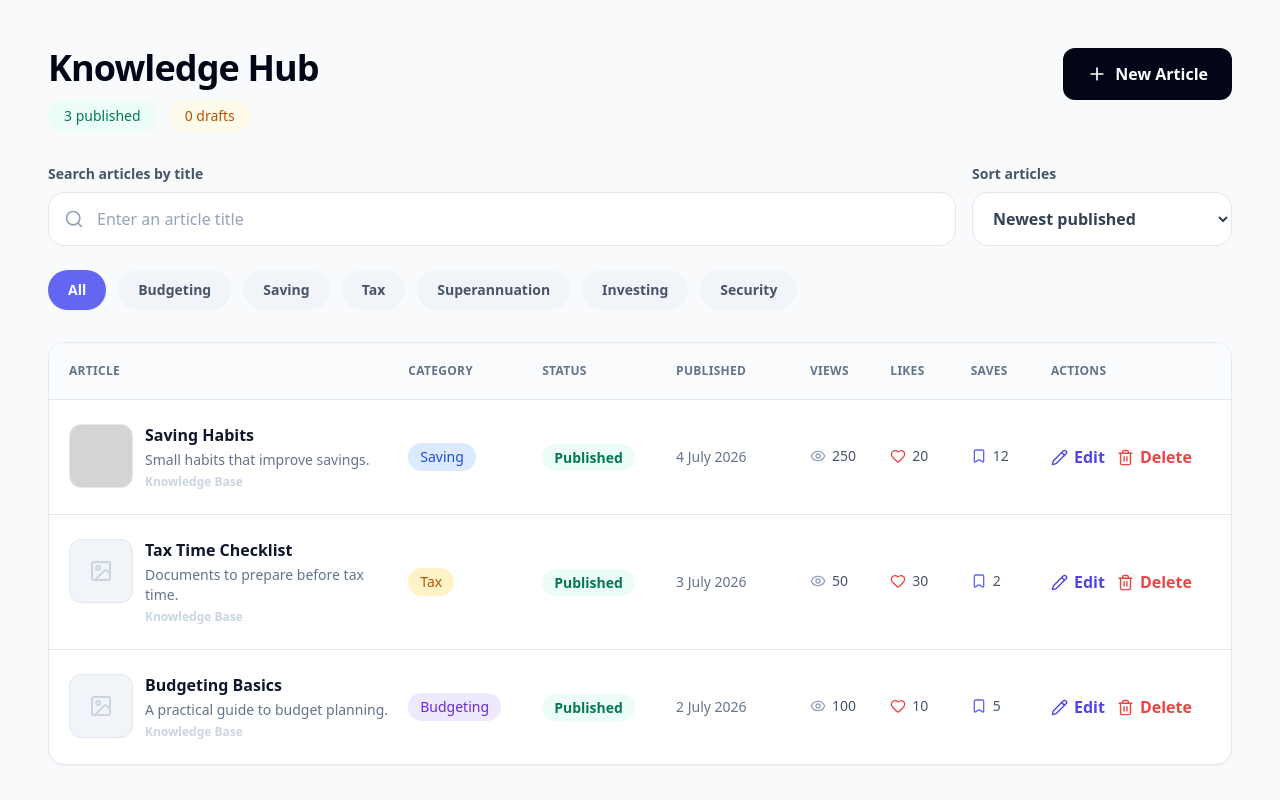
it: filters articles by title search and category
The image size is (1280, 800).
Expected: the heading "Budgeting Basics" is shown, [145,674,282,696]
Type "saving" into the search field labelled "Search articles by title" at (502, 219), box [48,192,956,246]
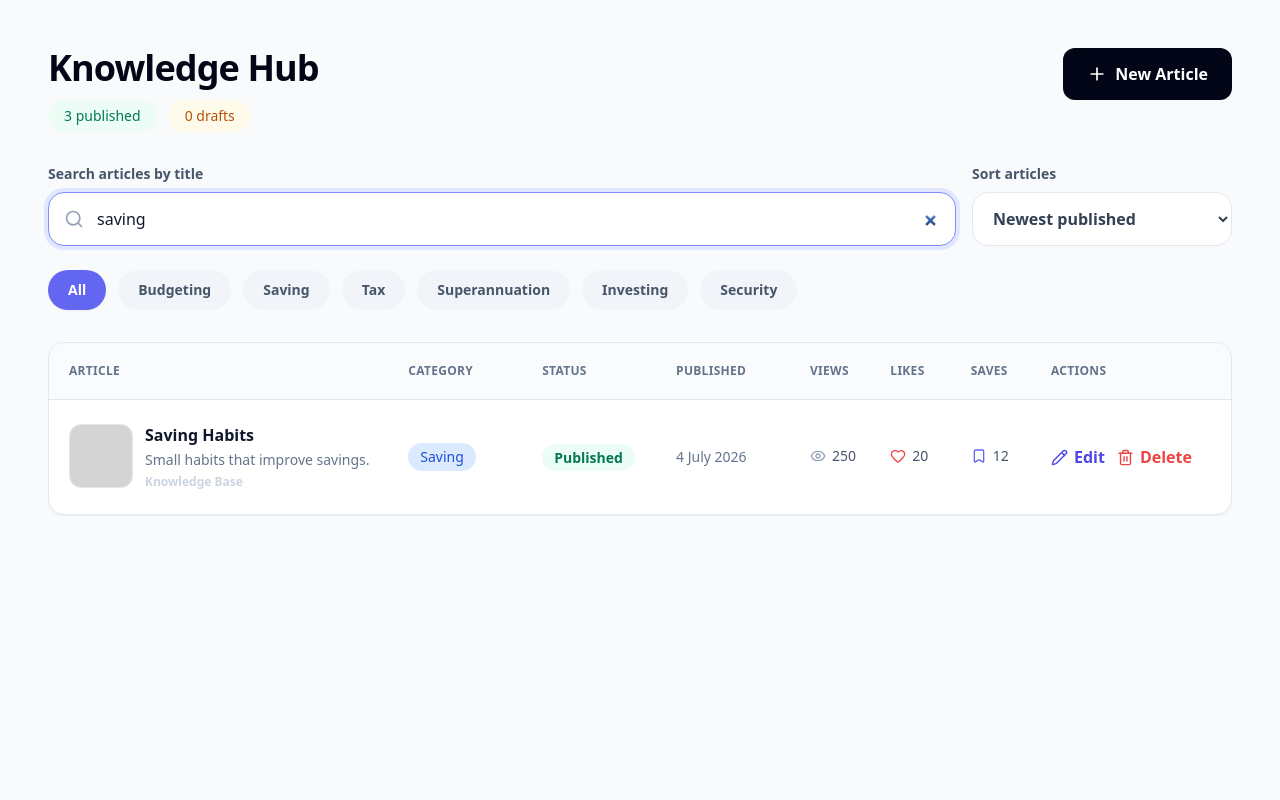
Expected: the heading "Saving Habits" is shown, [145,424,254,446]
Expected: the heading "Budgeting Basics" is gone
Clear the search field labelled "Search articles by title" at (502, 219), box [48,192,956,246]
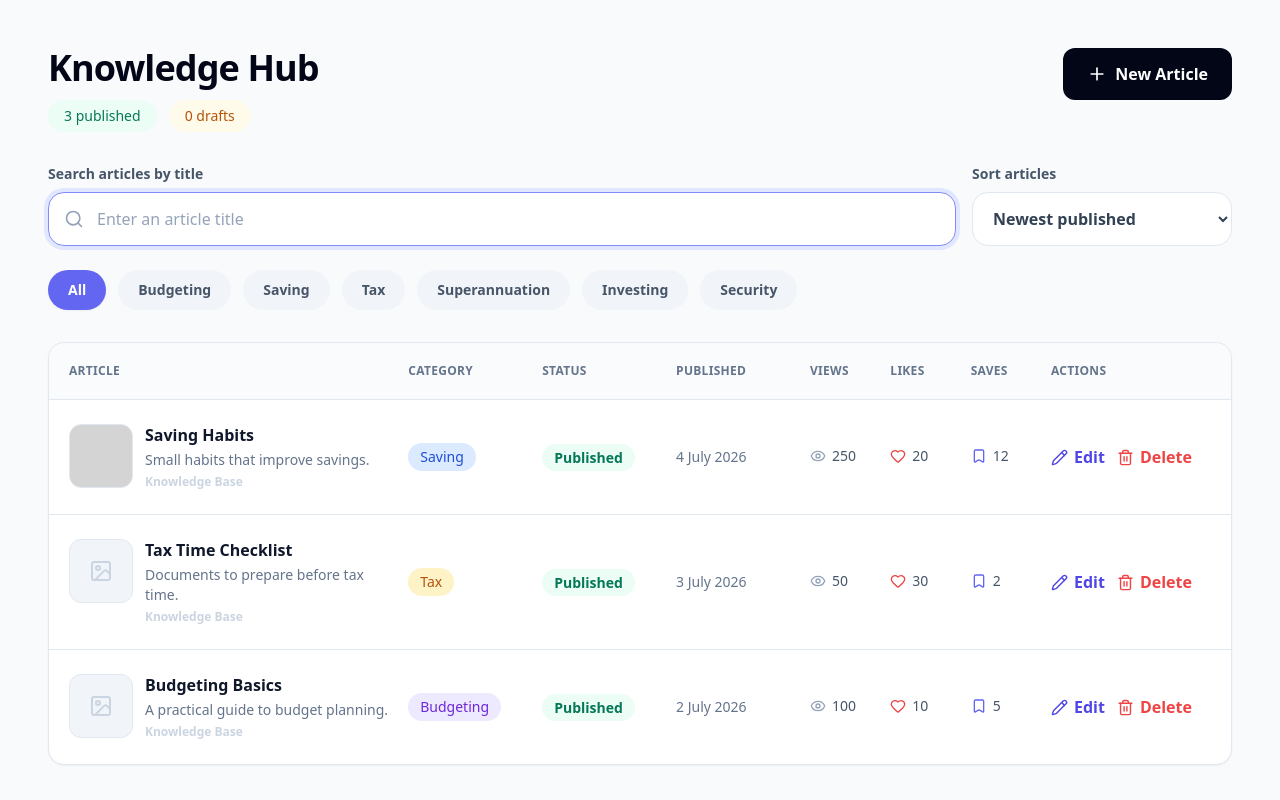
Click the button "Tax" at (373, 290), box [342,270,405,310]
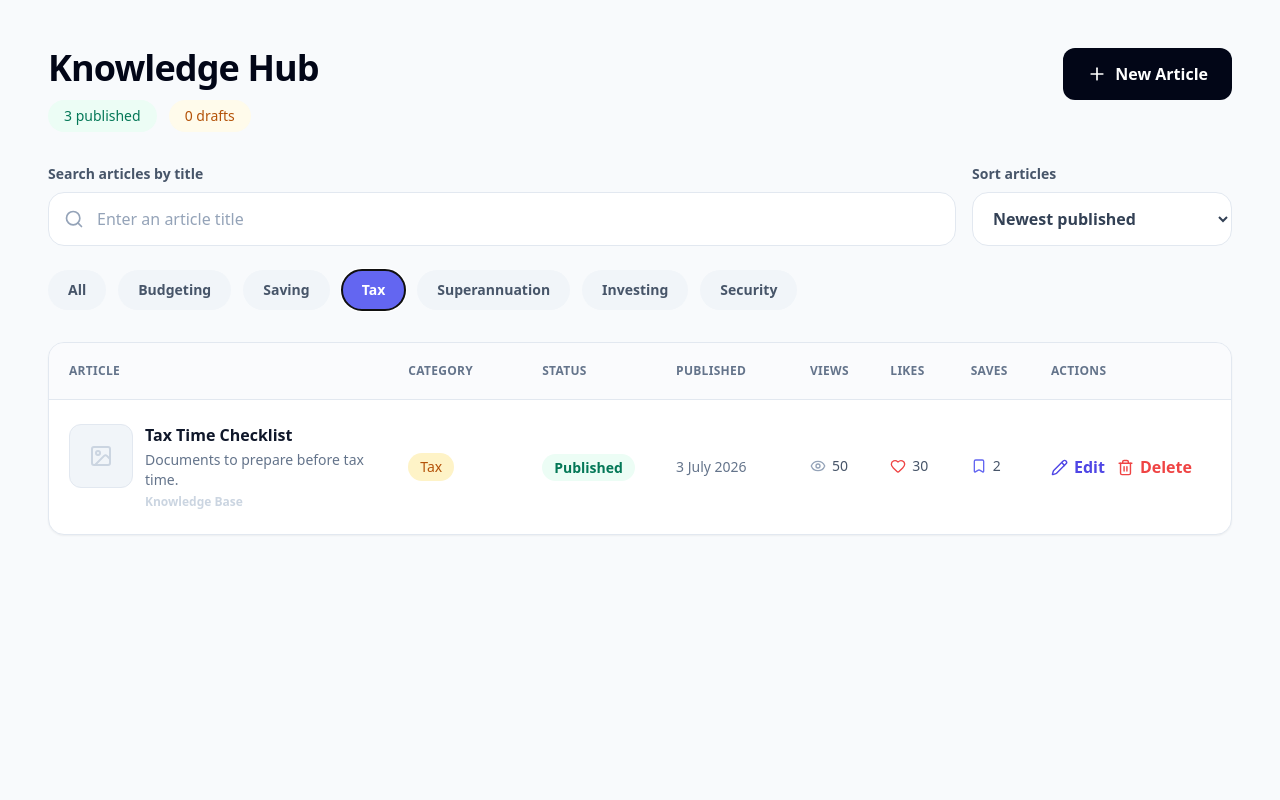
Expected: the heading "Tax Time Checklist" is shown, [145,424,292,446]
Expected: the heading "Saving Habits" is gone
